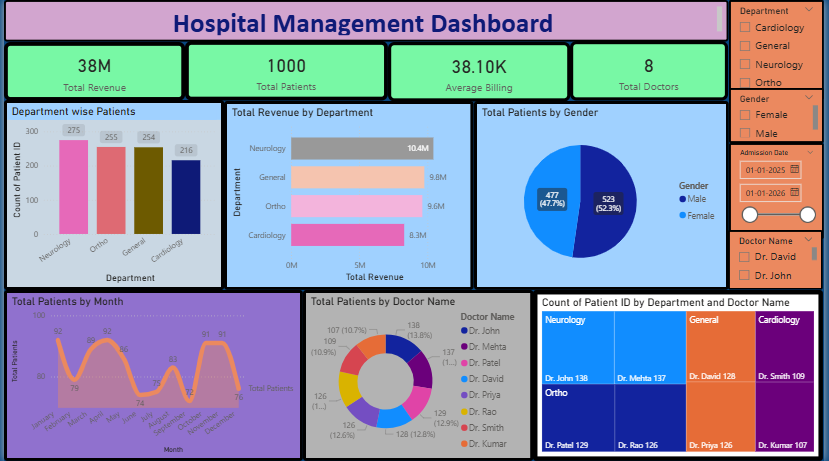

The page's visual inventory and layout, read from the dashboard file:
{"tool":"powerbi","page":{"name":"HOSPITAL DATASET DASHBOARD","canvas":[1280,720],"ordinal":0},"visuals":[{"type":"clusteredColumnChart","title":"Department wise Patients","fields":{"Category":["Hospital_Data.Department"],"Y":["Hospital_Data.Patient ID"]},"box":[0,156.2,344.4,297.3],"z":0},{"type":"barChart","fields":{"Category":["Hospital_Data.Department"],"Y":["Hospital_Data.Total Revenue"]},"box":[343.3,158.3,390,295],"z":1000},{"type":"pieChart","fields":{"Category":["Hospital_Data.Gender"],"Y":["Hospital_Data.Total Patients"]},"box":[733.9,157.6,398.3,294.9],"z":2000},{"type":"lineChart","fields":{"Y":["Hospital_Data.Total Patients"],"Category":["Hospital_Data.Admission Date.Variation.Date Hierarchy.Month"]},"box":[0,452.9,467.1,267.1],"z":3000},{"type":"slicer","fields":{"Values":["Hospital_Data.Department"]},"box":[1132.2,0,147.8,156.2],"z":4000},{"type":"slicer","fields":{"Values":["Hospital_Data.Gender"]},"box":[1132.2,137.7,147.8,85.7],"z":5000},{"type":"slicer","fields":{"Values":["Hospital_Data.Admission Date.Variation.Date Hierarchy.Year","Hospital_Data.Admission Date.Variation.Date Hierarchy.Quarter","Hospital_Data.Admission Date.Variation.Date Hierarchy.Month","Hospital_Data.Admission Date.Variation.Date Hierarchy.Day"]},"box":[1132.2,223.4,147.8,149.5],"z":6000},{"type":"slicer","fields":{"Values":["Hospital_Data.Doctor Name"]},"box":[1131.7,360,148.3,93.3],"z":7000},{"type":"textbox","box":[0,0,1131.7,65],"z":8000},{"type":"card","fields":{"Values":["Hospital_Data.Total Patients"]},"box":[283.3,63.3,316.7,93.3],"z":9000},{"type":"card","fields":{"Values":["Hospital_Data.Total Revenue"]},"box":[0,65,283.3,91.7],"z":10000},{"type":"card","fields":{"Values":["Hospital_Data.Average Billing"]},"box":[600,65,285,93.3],"z":11000},{"type":"card","fields":{"Values":["Hospital_Data.Total Doctors"]},"box":[885,63.3,246.7,93.3],"z":12000},{"type":"treemap","fields":{"Group":["Hospital_Data.Department"],"Details":["Hospital_Data.Doctor Name"],"Values":["Hospital_Data.Patient ID"]},"box":[826.7,453.3,453.3,266.7],"z":13000},{"type":"donutChart","fields":{"Category":["Hospital_Data.Doctor Name"],"Y":["Hospital_Data.Total Patients"]},"box":[466.7,453.3,360,266.7],"z":14000}]}

Visuals, with their boxes in screenshot pixels (x1, y1, x2, y2), scaled from the page's 1280x720 canvas onto the 829x461 screenshot:
"Department wise Patients" clusteredColumnChart: bbox=(0, 100, 223, 290)
barChart - Hospital_Data.Department x Hospital_Data.Total Revenue: bbox=(222, 101, 475, 290)
pieChart - Hospital_Data.Gender x Hospital_Data.Total Patients: bbox=(475, 101, 733, 290)
lineChart - Hospital_Data.Total Patients x Hospital_Data.Admission Date.Variation.Date Hierarchy.Month: bbox=(0, 290, 303, 460)
slicer - Hospital_Data.Department: bbox=(733, 0, 828, 100)
slicer - Hospital_Data.Gender: bbox=(733, 88, 828, 143)
slicer - Hospital_Data.Admission Date.Variation.Date Hierarchy.Year x Hospital_Data.Admission Date.Variation.Date Hierarchy.Quarter: bbox=(733, 143, 828, 239)
slicer - Hospital_Data.Doctor Name: bbox=(733, 230, 828, 290)
textbox: bbox=(0, 0, 733, 42)
card - Hospital_Data.Total Patients: bbox=(183, 41, 389, 100)
card - Hospital_Data.Total Revenue: bbox=(0, 42, 183, 100)
card - Hospital_Data.Average Billing: bbox=(389, 42, 573, 101)
card - Hospital_Data.Total Doctors: bbox=(573, 41, 733, 100)
treemap - Hospital_Data.Department x Hospital_Data.Doctor Name: bbox=(535, 290, 828, 460)
donutChart - Hospital_Data.Doctor Name x Hospital_Data.Total Patients: bbox=(302, 290, 535, 460)
